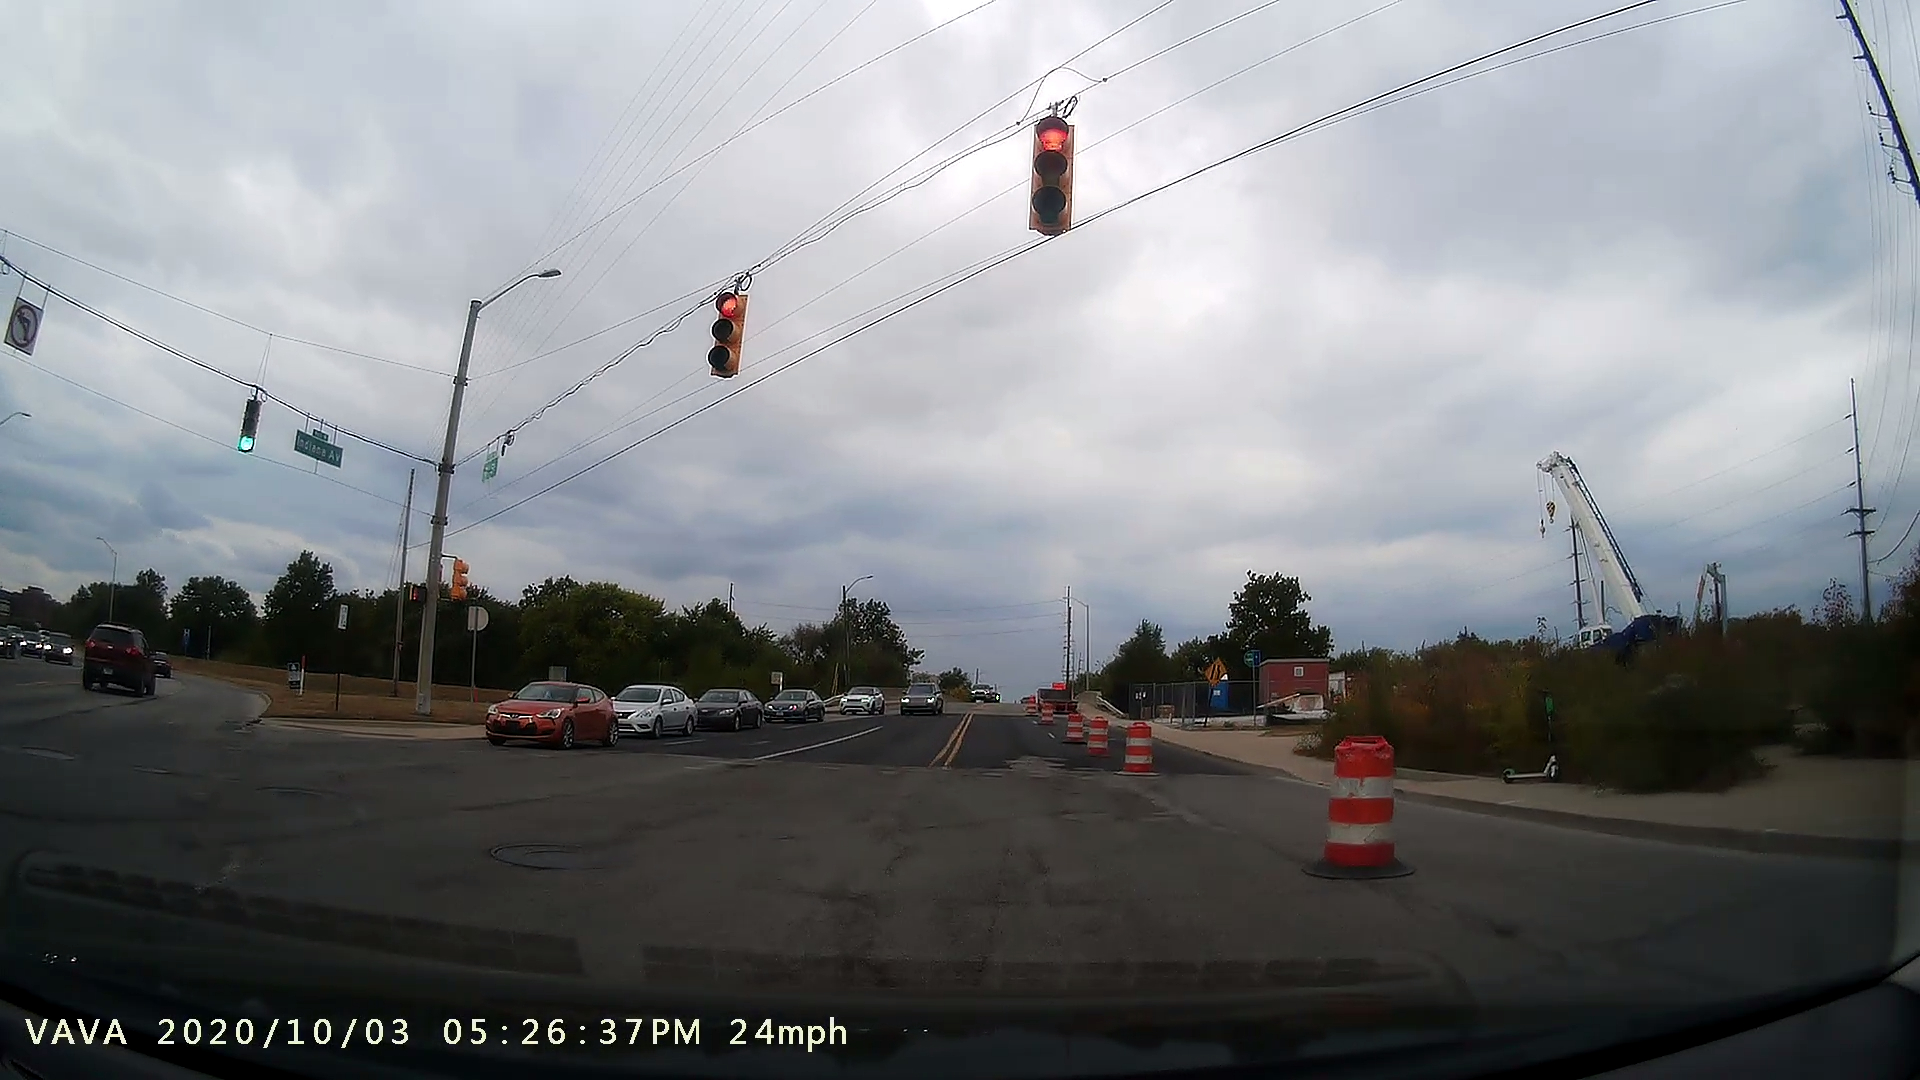const_barrel: (1292, 721, 1432, 886), (1112, 711, 1174, 783)
